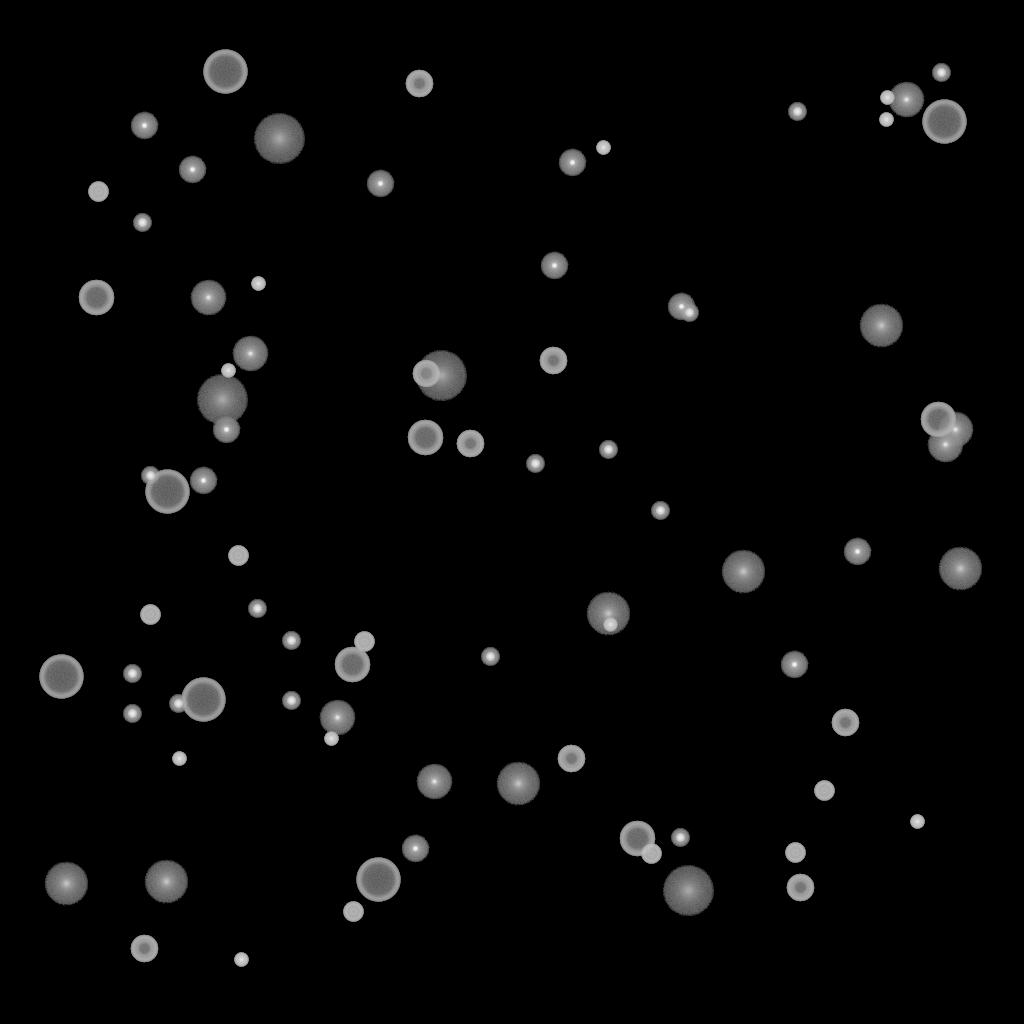depth:-10: (401, 835, 429, 863), (540, 252, 568, 280), (667, 293, 695, 321), (780, 651, 808, 679), (843, 538, 871, 566), (366, 170, 394, 198), (130, 112, 158, 140), (558, 149, 586, 177), (189, 467, 217, 495), (212, 416, 240, 444), (178, 156, 206, 184)
depth:-20: (932, 64, 950, 82), (123, 705, 141, 723), (123, 665, 141, 683), (481, 648, 499, 666), (599, 441, 617, 459), (141, 467, 159, 485), (282, 632, 300, 650), (248, 600, 266, 618), (680, 304, 698, 322), (133, 214, 151, 232), (651, 502, 669, 520), (526, 455, 544, 473), (788, 103, 806, 121), (671, 829, 689, 847), (282, 692, 300, 710), (169, 695, 187, 713)
depth:-30: (221, 364, 235, 378), (596, 141, 610, 155), (172, 752, 186, 766), (603, 618, 617, 632), (234, 953, 248, 967), (879, 113, 893, 127), (324, 732, 338, 746), (910, 815, 924, 829), (880, 91, 894, 105), (251, 277, 265, 291)
depth:-40: (785, 843, 805, 863), (228, 546, 248, 566), (641, 844, 661, 864), (140, 605, 160, 625), (343, 902, 363, 922), (814, 781, 834, 801), (88, 182, 108, 202), (354, 632, 374, 652)
depth:-50: (405, 70, 433, 98), (456, 430, 484, 458), (130, 935, 158, 963), (412, 360, 440, 388), (786, 874, 814, 902), (831, 709, 859, 737), (539, 347, 567, 375), (557, 745, 585, 773)
depth:-60: (619, 821, 655, 857), (334, 647, 370, 683), (78, 280, 114, 316), (920, 402, 956, 438), (407, 420, 443, 456)
depth:-70: (922, 100, 966, 144), (39, 655, 83, 699), (145, 470, 189, 514), (203, 50, 247, 94), (356, 858, 400, 902), (181, 678, 225, 722)
depth:0: (190, 280, 226, 316), (232, 336, 268, 372), (416, 764, 452, 800), (927, 427, 963, 463), (319, 700, 355, 736), (888, 82, 924, 118), (937, 412, 973, 448)
depth:10: (496, 762, 540, 806), (938, 547, 982, 591), (859, 304, 903, 348), (721, 550, 765, 594), (44, 862, 88, 906), (586, 592, 630, 636), (144, 860, 188, 904)
depth:20: (196, 375, 248, 425), (415, 351, 467, 401), (662, 866, 714, 916), (253, 114, 305, 164)
